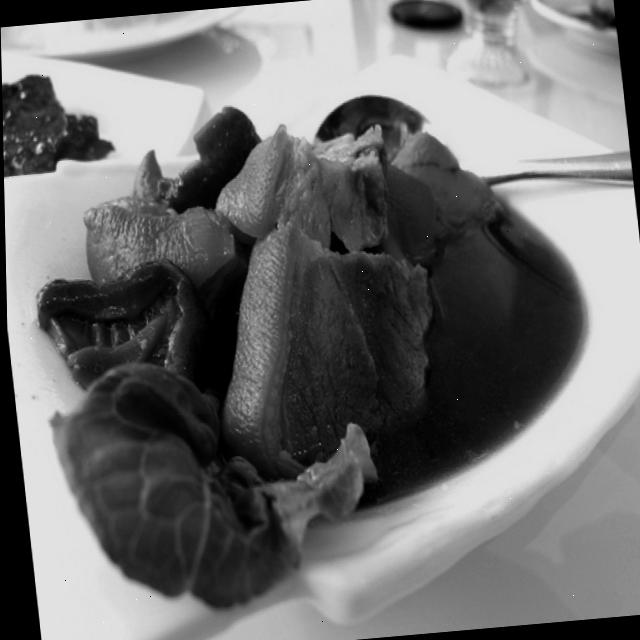汤锅炖物: (0, 5, 640, 631)
